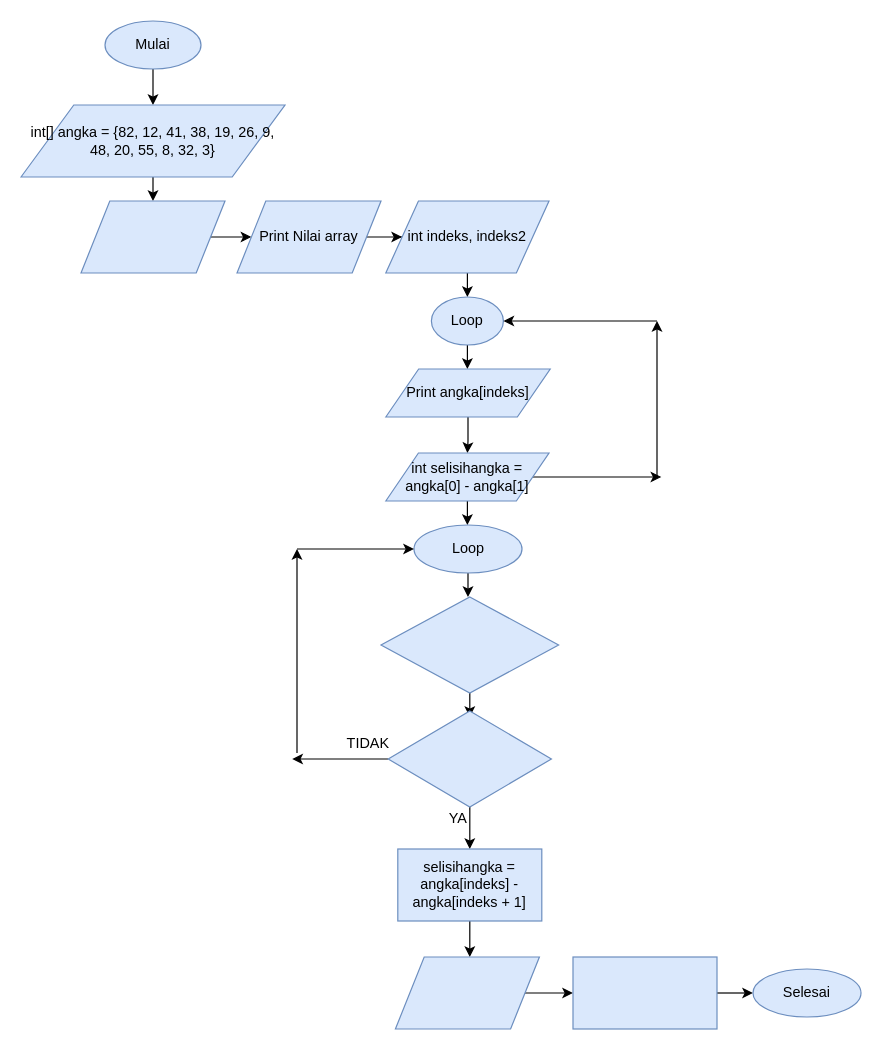
Some shapes in this 882 by 1050 pixel diagram are drawn without their labels. The centre of each missing label's shape, as x and y in pixels:
if (indeks == angka.length - 1): the point at 469,758
indeks = 0; indeks < angka.length; indeks++: the point at 469,644
int total = 0: the point at 152,236
Print selisih angka dengan angka lain adalah: the point at 466,992
total = total + selisihangka: the point at 644,992
